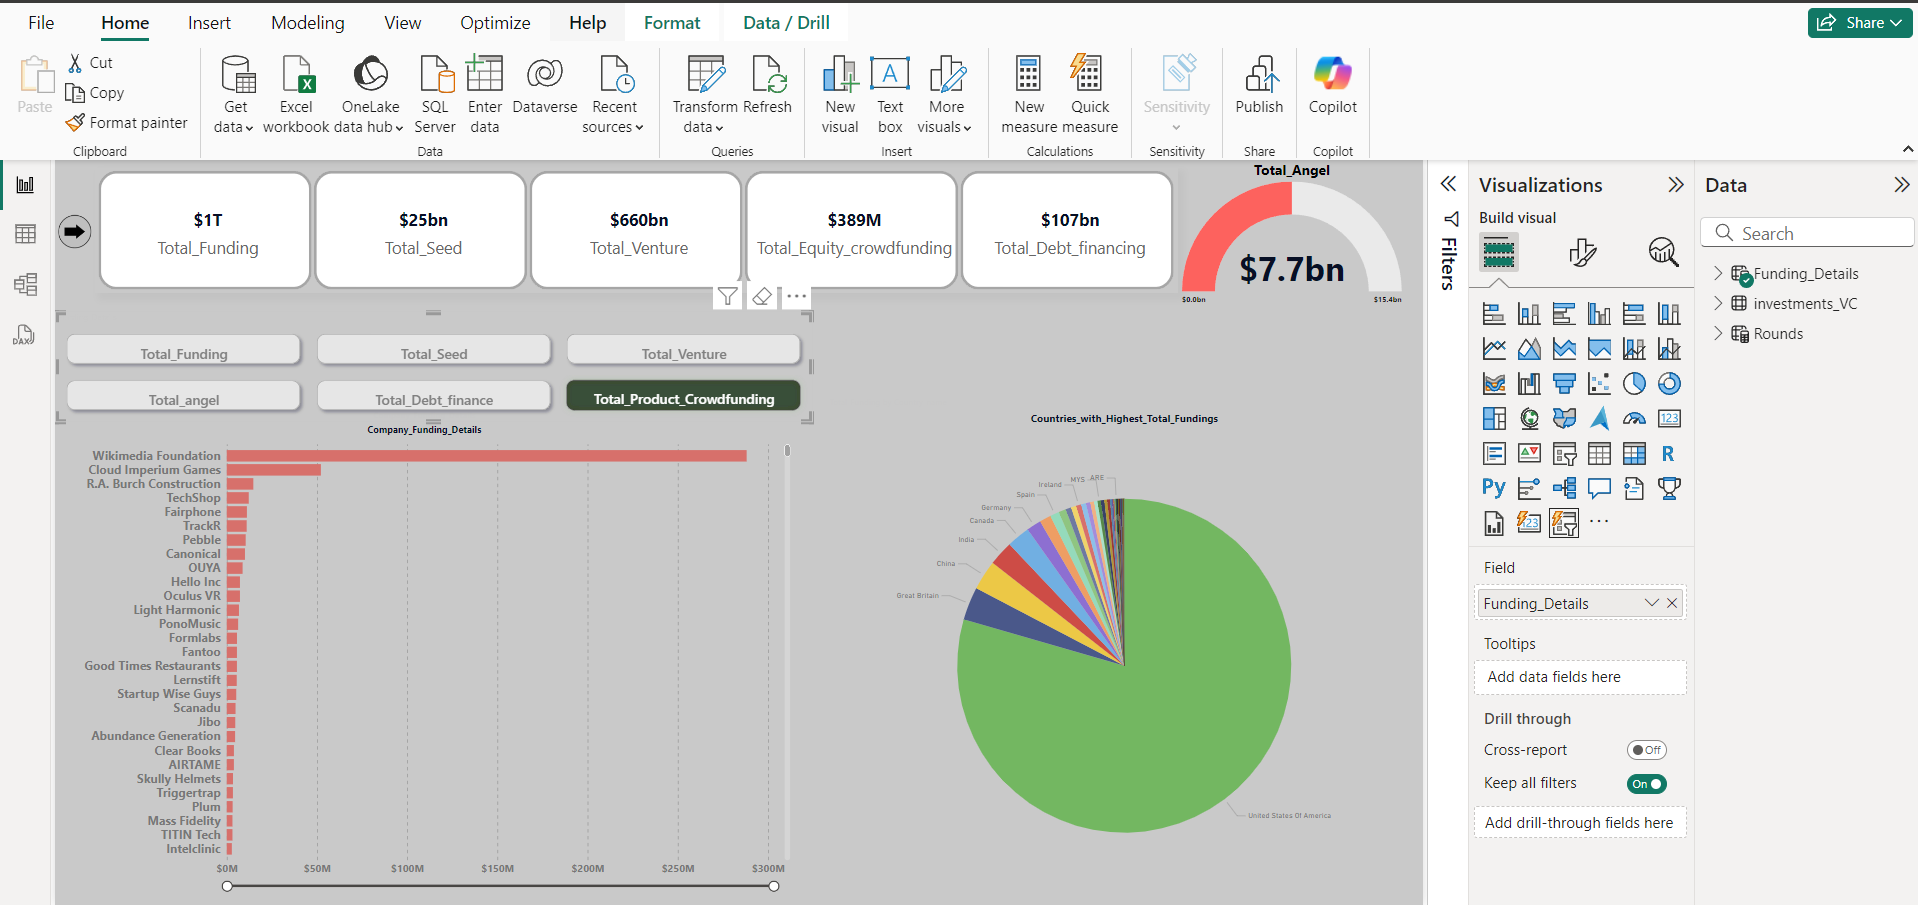

This screenshot's page, from the dashboard's own definition file:
{"tool":"powerbi","page":{"name":"Page 1","canvas":[1980,1080],"ordinal":0},"visuals":[{"type":"cardVisual","fields":{"Data":["investments_VC.Total_Funding","Sum(investments_VC.Seed)","Sum(investments_VC.Venture)","Sum(investments_VC.Equity_crowdfunding)","Sum(investments_VC.Debt_financing)"]},"box":[57.5,10,1567.5,182.5],"z":0},{"type":"gauge","title":"Total_Angel","fields":{"Y":["Sum(investments_VC.angel)"]},"box":[1602.4,0,378.6,219],"z":1000},{"type":"barChart","title":"Company_Funding_Details","fields":{"Y":["investments_VC.Total_Funding"],"Category":["investments_VC.Company_name"]},"box":[0,360.1,1069.5,702.1],"z":2000},{"type":"advancedSlicerVisual","fields":{"Values":["Funding_Details.Funding_Details"]},"box":[0,218.6,1097.4,161.3],"z":3000},{"type":"pieChart","fields":{"Category":["investments_VC.Country_name"],"Y":["investments_VC.Total_Funding"]},"box":[1116.6,342,863.2,738.3],"z":4000},{"type":"image","box":[0,62.5,57.5,80],"z":5000}]}

Visuals, with their boxes on the page's 1980x1080 design canvas (x1, y1, x2, y2). These are canvas units, not pixel positions in the 1918x905 screenshot, which may show the page scaled, cropped or inside an application window:
cardVisual - investments_VC.Total_Funding x Sum(investments_VC.Seed): bbox=[58, 10, 1625, 192]
"Total_Angel" gauge: bbox=[1602, 0, 1981, 219]
"Company_Funding_Details" barChart: bbox=[0, 360, 1070, 1062]
advancedSlicerVisual - Funding_Details.Funding_Details: bbox=[0, 219, 1097, 380]
pieChart - investments_VC.Country_name x investments_VC.Total_Funding: bbox=[1117, 342, 1980, 1080]
image: bbox=[0, 62, 58, 142]
